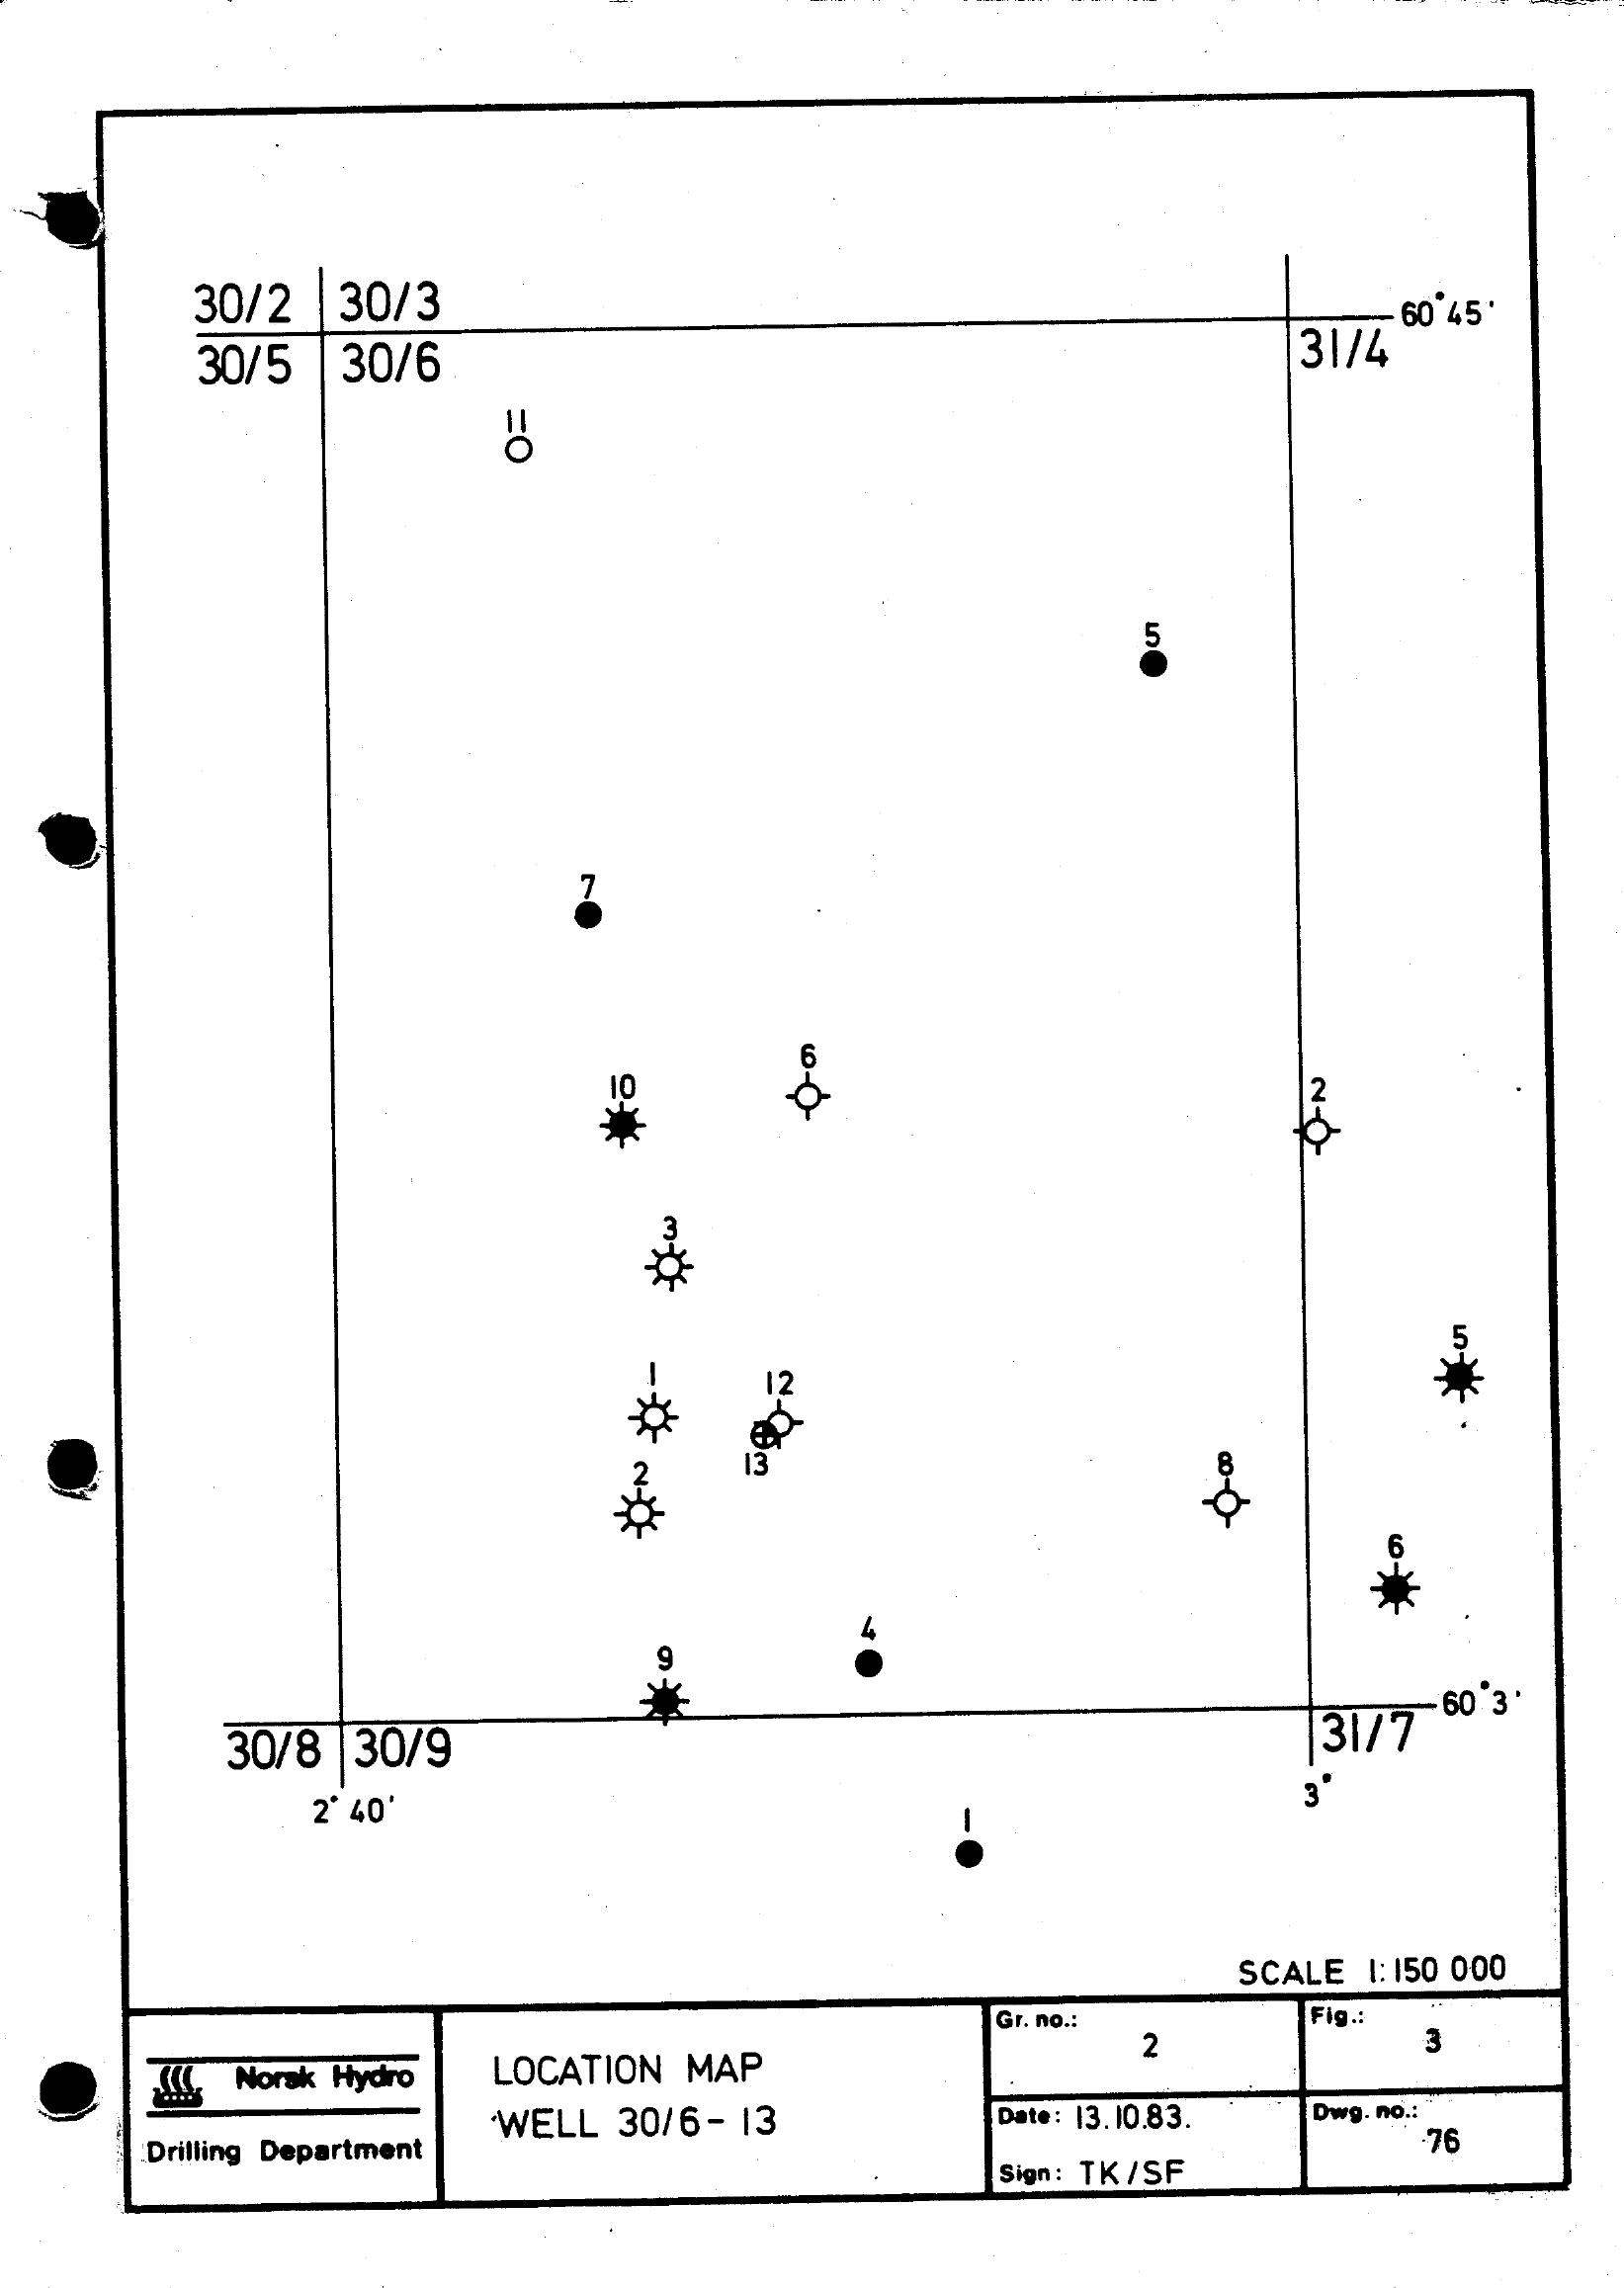graph: (60, 65, 1596, 2234)
